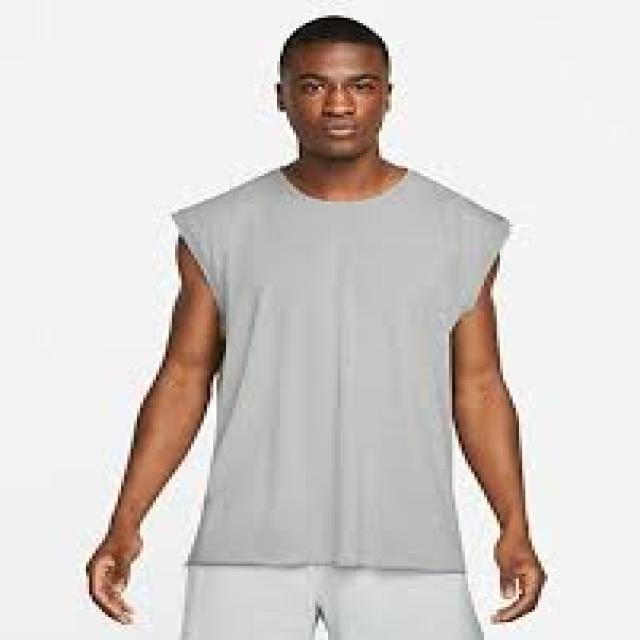no_vest: (172, 161, 511, 572)
